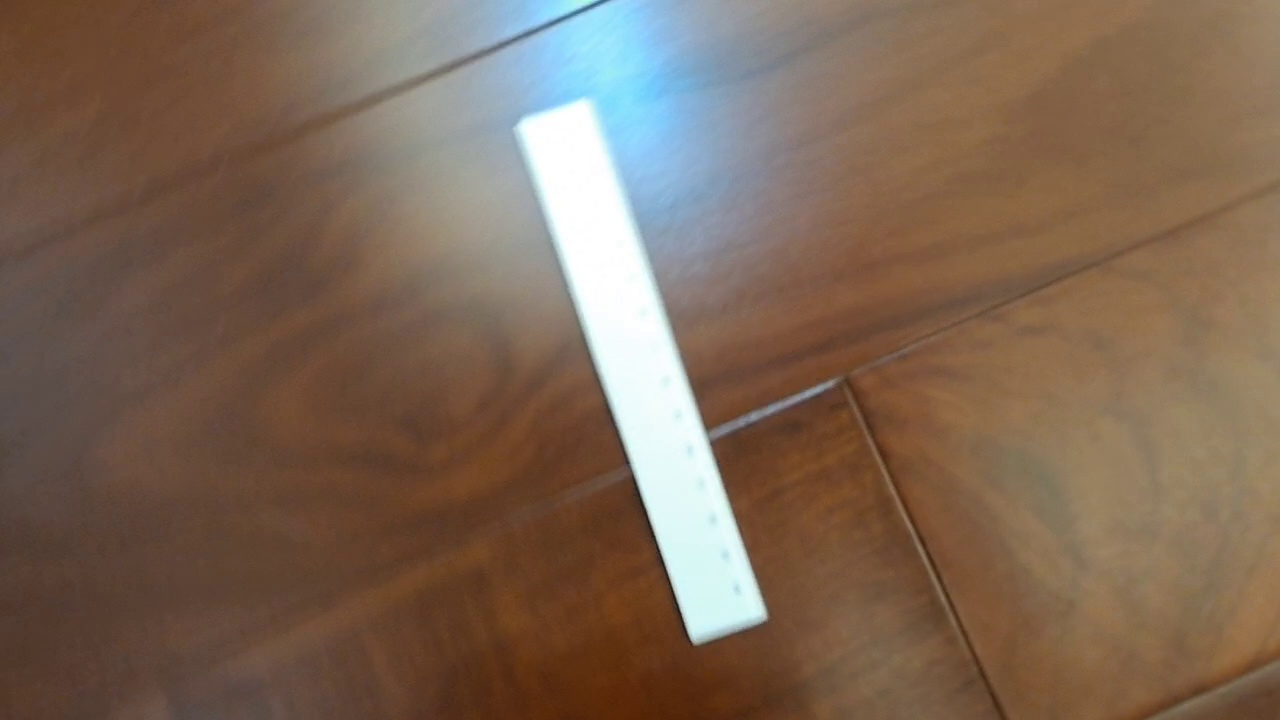ruler: (511, 94, 772, 649)
